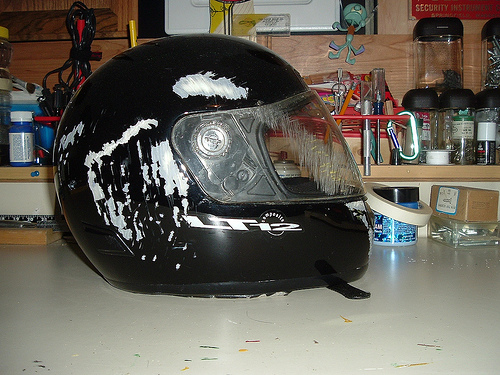helmet: (52, 42, 375, 286)
